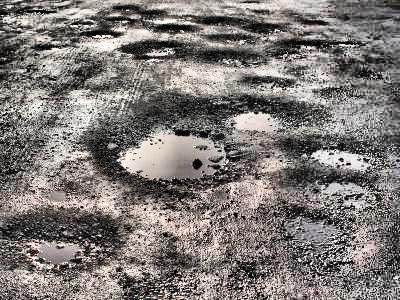pothole: (87, 98, 244, 190), (0, 210, 122, 274), (274, 205, 361, 281), (282, 170, 382, 210), (225, 95, 330, 132), (281, 136, 381, 173), (195, 47, 265, 70), (268, 34, 323, 61), (117, 39, 186, 60), (235, 74, 297, 91), (242, 21, 284, 36), (152, 22, 199, 35), (196, 15, 243, 27), (87, 29, 121, 39), (337, 40, 360, 49), (26, 8, 54, 15), (140, 8, 164, 16), (104, 16, 129, 22), (113, 4, 136, 10)
